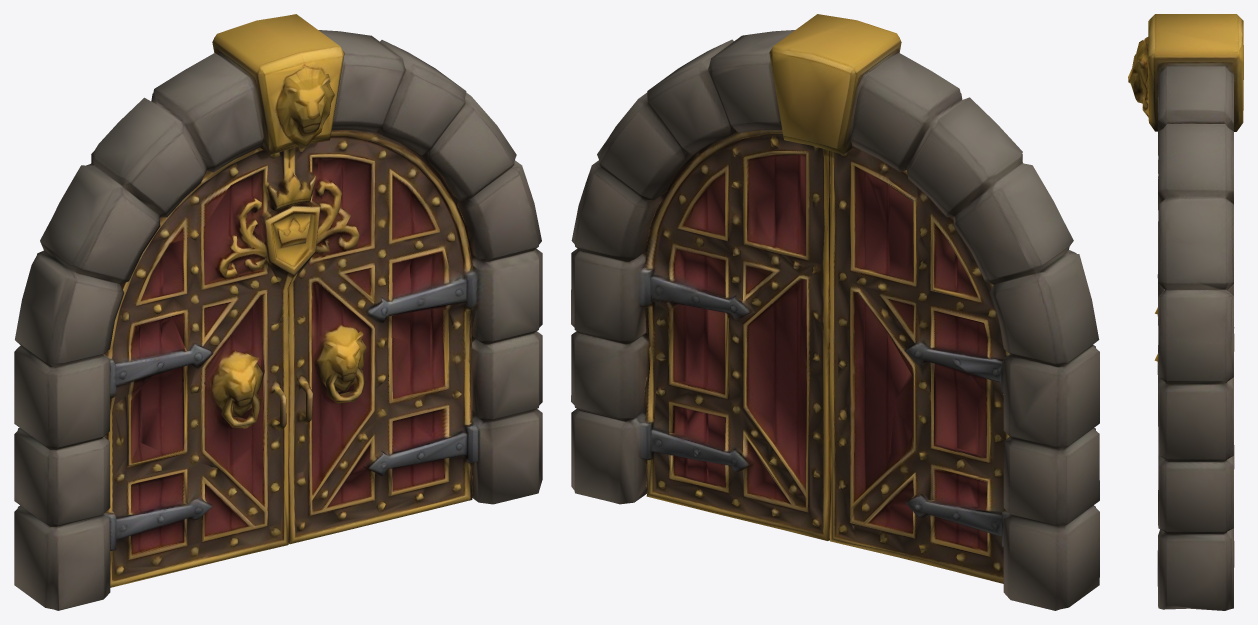
The model's file is castledoor.glb.
3 views of the same model, side by side, from view 1: azimuth 30°, elevation 25°; view 2: azimuth 150°, elevation 25°; view 3: azimuth 270°, elevation 25° (orthographic). The views are drawn at different scales.
Visible parts, largest first — view 1: tripo_node_28ed1eb9-0a53-44b2-b278-83e336503d95; view 2: tripo_node_28ed1eb9-0a53-44b2-b278-83e336503d95; view 3: tripo_node_28ed1eb9-0a53-44b2-b278-83e336503d95.
Part boxes in pixels (box(x1,y1,x2,y2)): tripo_node_28ed1eb9-0a53-44b2-b278-83e336503d95: box(14, 14, 542, 610); tripo_node_28ed1eb9-0a53-44b2-b278-83e336503d95: box(571, 14, 1099, 610); tripo_node_28ed1eb9-0a53-44b2-b278-83e336503d95: box(1128, 14, 1243, 610).
Bounding box in the file's own units: 0.9772 × 0.9402 × 0.21.
Materials: 1 (1 with a texture image).
